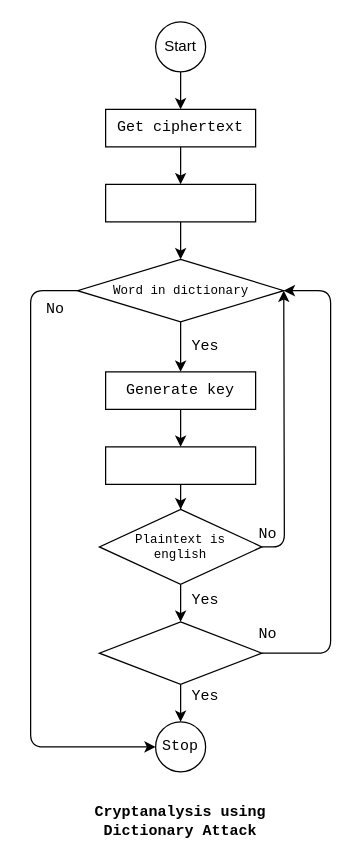
Image size: 363x861. Some labels were removed from this diagram. Each missing label, with the box of its shape:
Generate plaintext: (104, 446, 256, 484)
Get dictionary: (104, 183, 256, 222)
Plaintext is valid: (98, 621, 262, 684)
